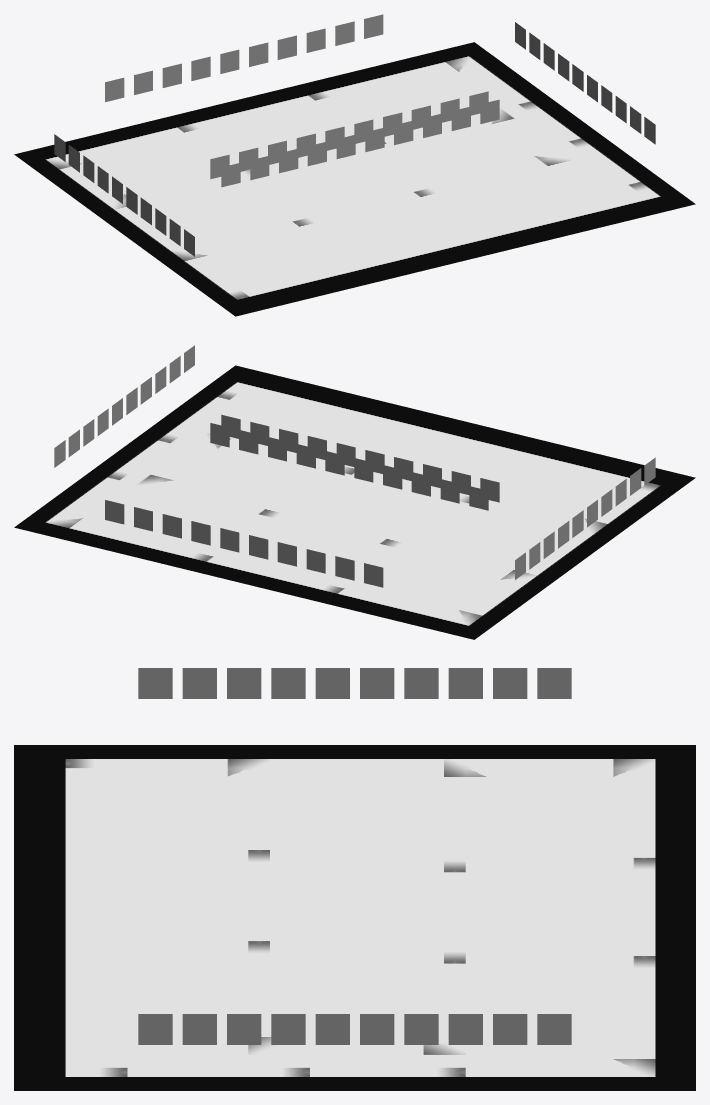
The model's file is 指示路牌和壁画遮挡.FBX.
3 renders of one model, top to bottom at view 1: azimuth 30°, elevation 25°; view 2: azimuth 150°, elevation 25°; view 3: azimuth 270°, elevation 25°, orthographic. The views are drawn at different scales.
Parts seen in each view (by area): view 1: 指示路牌; view 2: 指示路牌; view 3: 指示路牌, 遮挡03, 遮挡46, 遮挡04, 遮挡05, 遮挡26, 遮挡27, 遮挡28, 遮挡29, 遮挡50, 遮挡49, 遮挡47 (+9 smaller).
Part boxes in pixels (left/top/right/bottom): 指示路牌: left=14, top=42, right=695, bottom=316; 指示路牌: left=14, top=365, right=695, bottom=639; 指示路牌: left=14, top=745, right=695, bottom=1090; 遮挡03: left=227, top=668, right=261, bottom=698; 遮挡46: left=315, top=1014, right=349, bottom=1044; 遮挡04: left=271, top=668, right=305, bottom=698; 遮挡05: left=315, top=668, right=349, bottom=698; 遮挡26: left=360, top=668, right=394, bottom=698; 遮挡27: left=404, top=668, right=438, bottom=698; 遮挡28: left=448, top=668, right=482, bottom=698; 遮挡29: left=493, top=668, right=527, bottom=698; 遮挡50: left=138, top=1014, right=172, bottom=1044; 遮挡49: left=182, top=1014, right=216, bottom=1044; 遮挡47: left=271, top=1014, right=305, bottom=1044.
Size of the model in its own units: 24 by 2.49 by 20.
